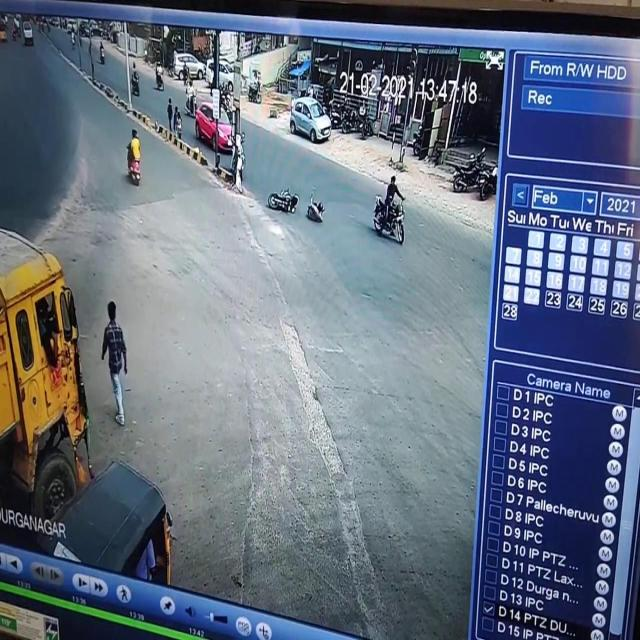accident: (266, 181, 327, 234)
